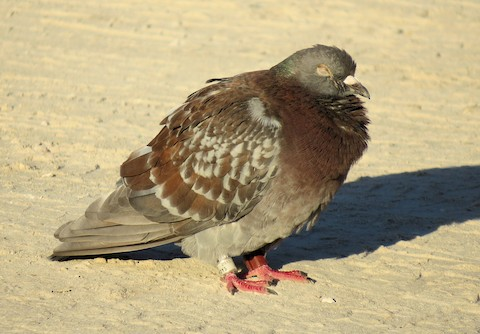pigeon: (46, 37, 375, 297)
